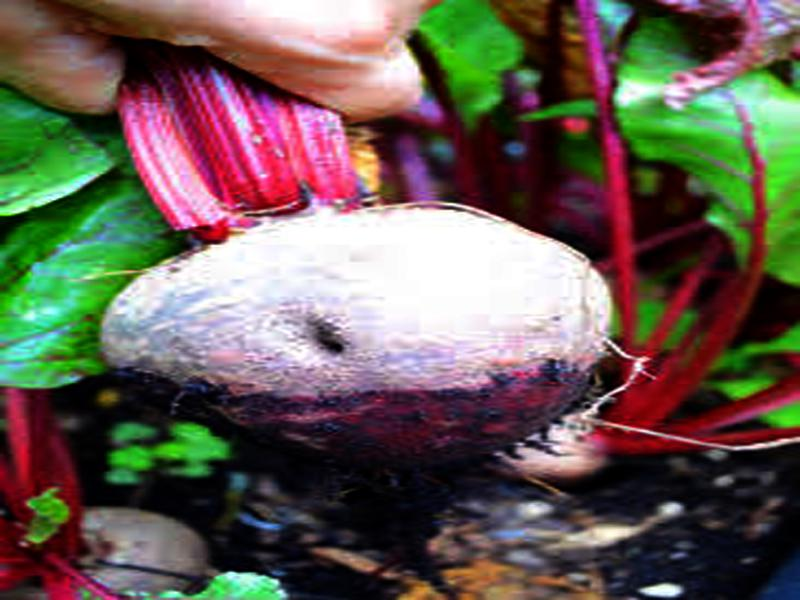Beet: (101, 39, 616, 600)
